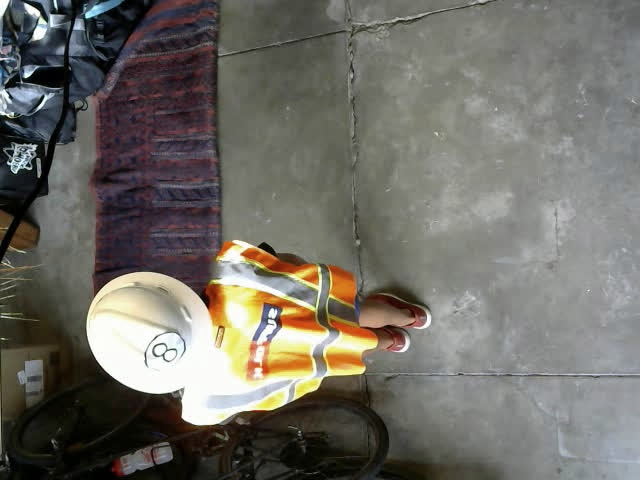eight: (144, 331, 186, 374)
